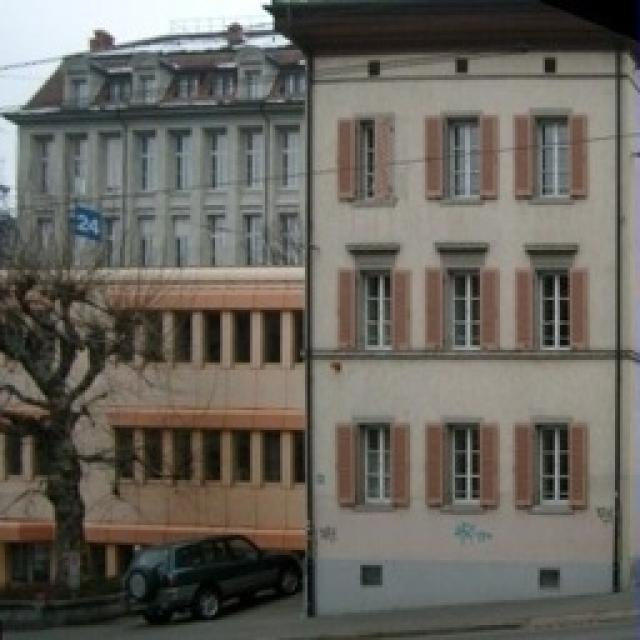building: (295, 0, 640, 640), (0, 29, 302, 572)
